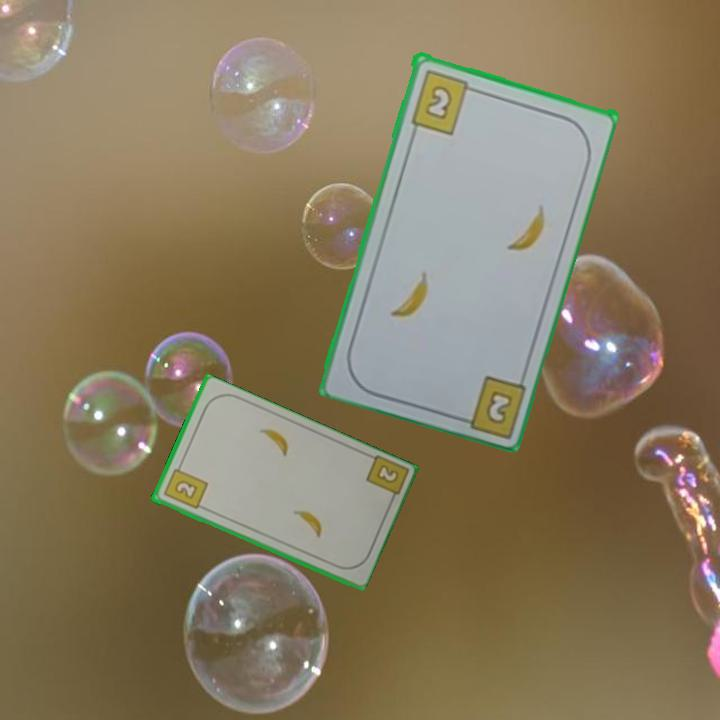2b: (407, 65, 480, 137), (160, 460, 210, 512), (362, 452, 409, 507), (482, 386, 515, 427)
